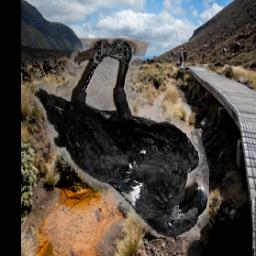Crow: (35, 39, 209, 238)
